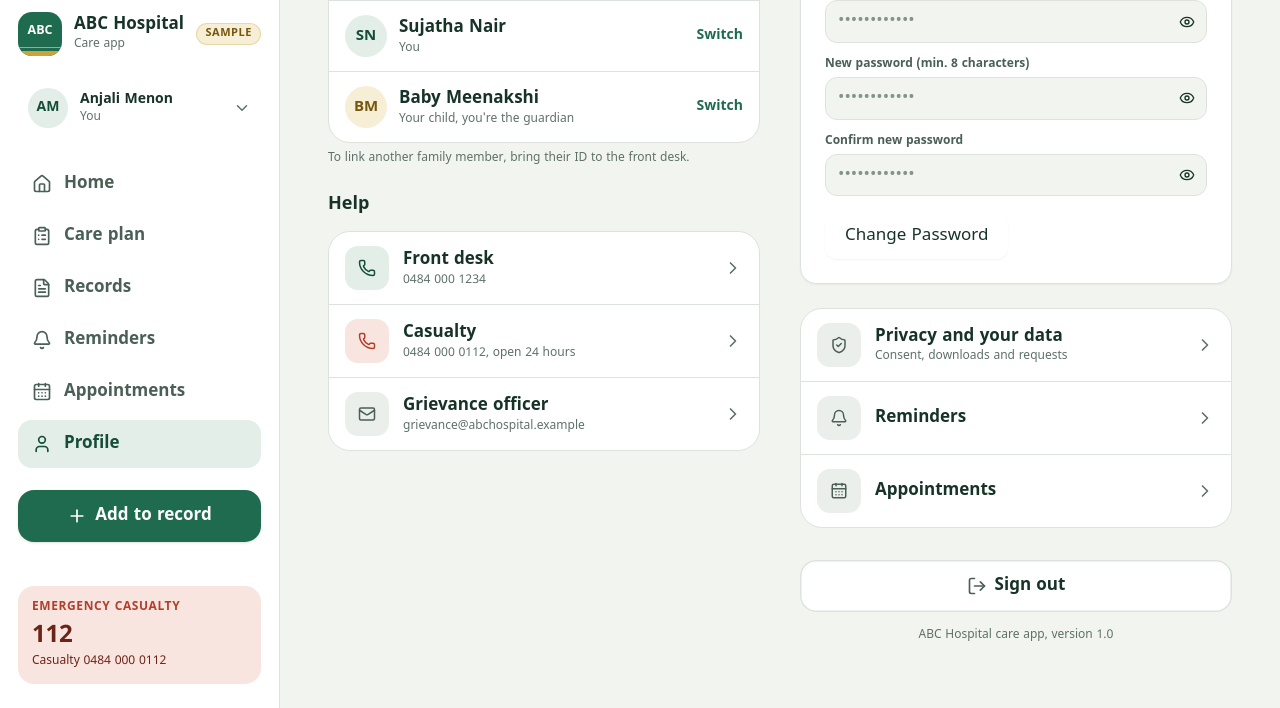
Patient Reminders & Appointments Feature › navigates from Profile to Reminders and Appointments correctly
(page scrolled)
Click Reminders shortcut row in Portal Shortcuts
Click the button "Reminders" below "Confirm new password" at (839, 418), box [801,381,1231,454]
(page scrolled)
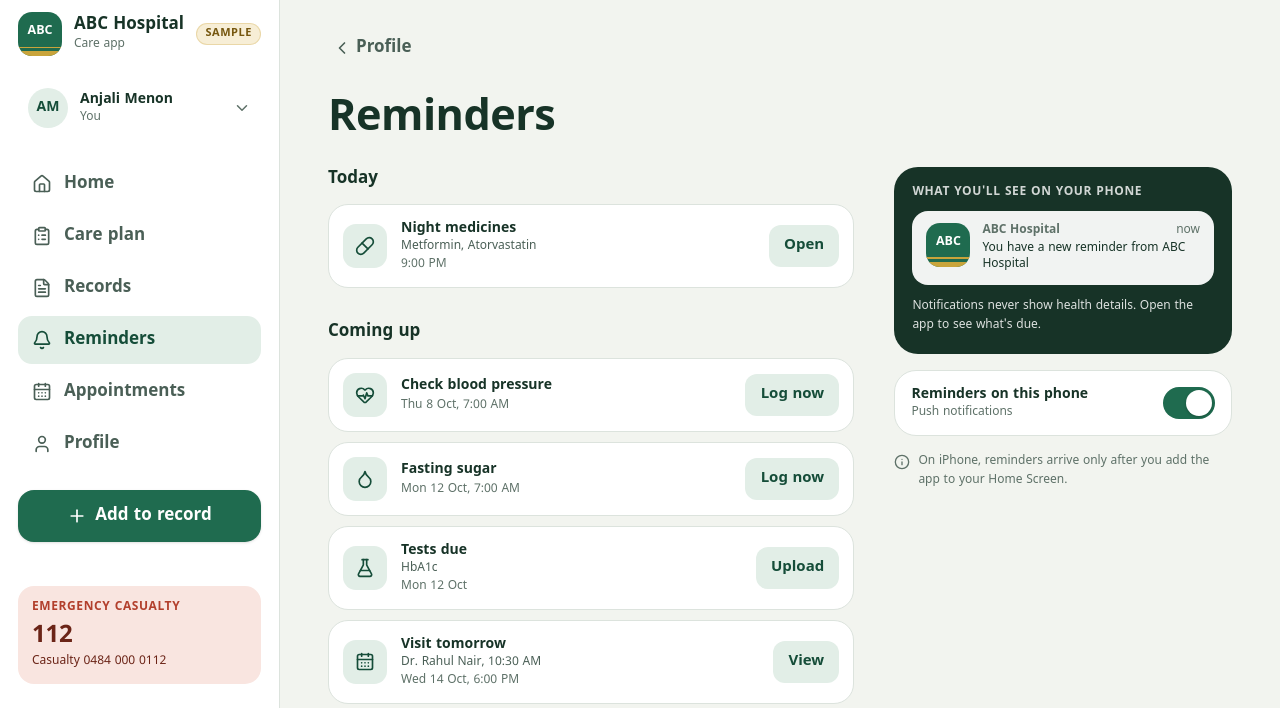
Expected: the heading "Reminders" is shown, [328,93,555,147]
